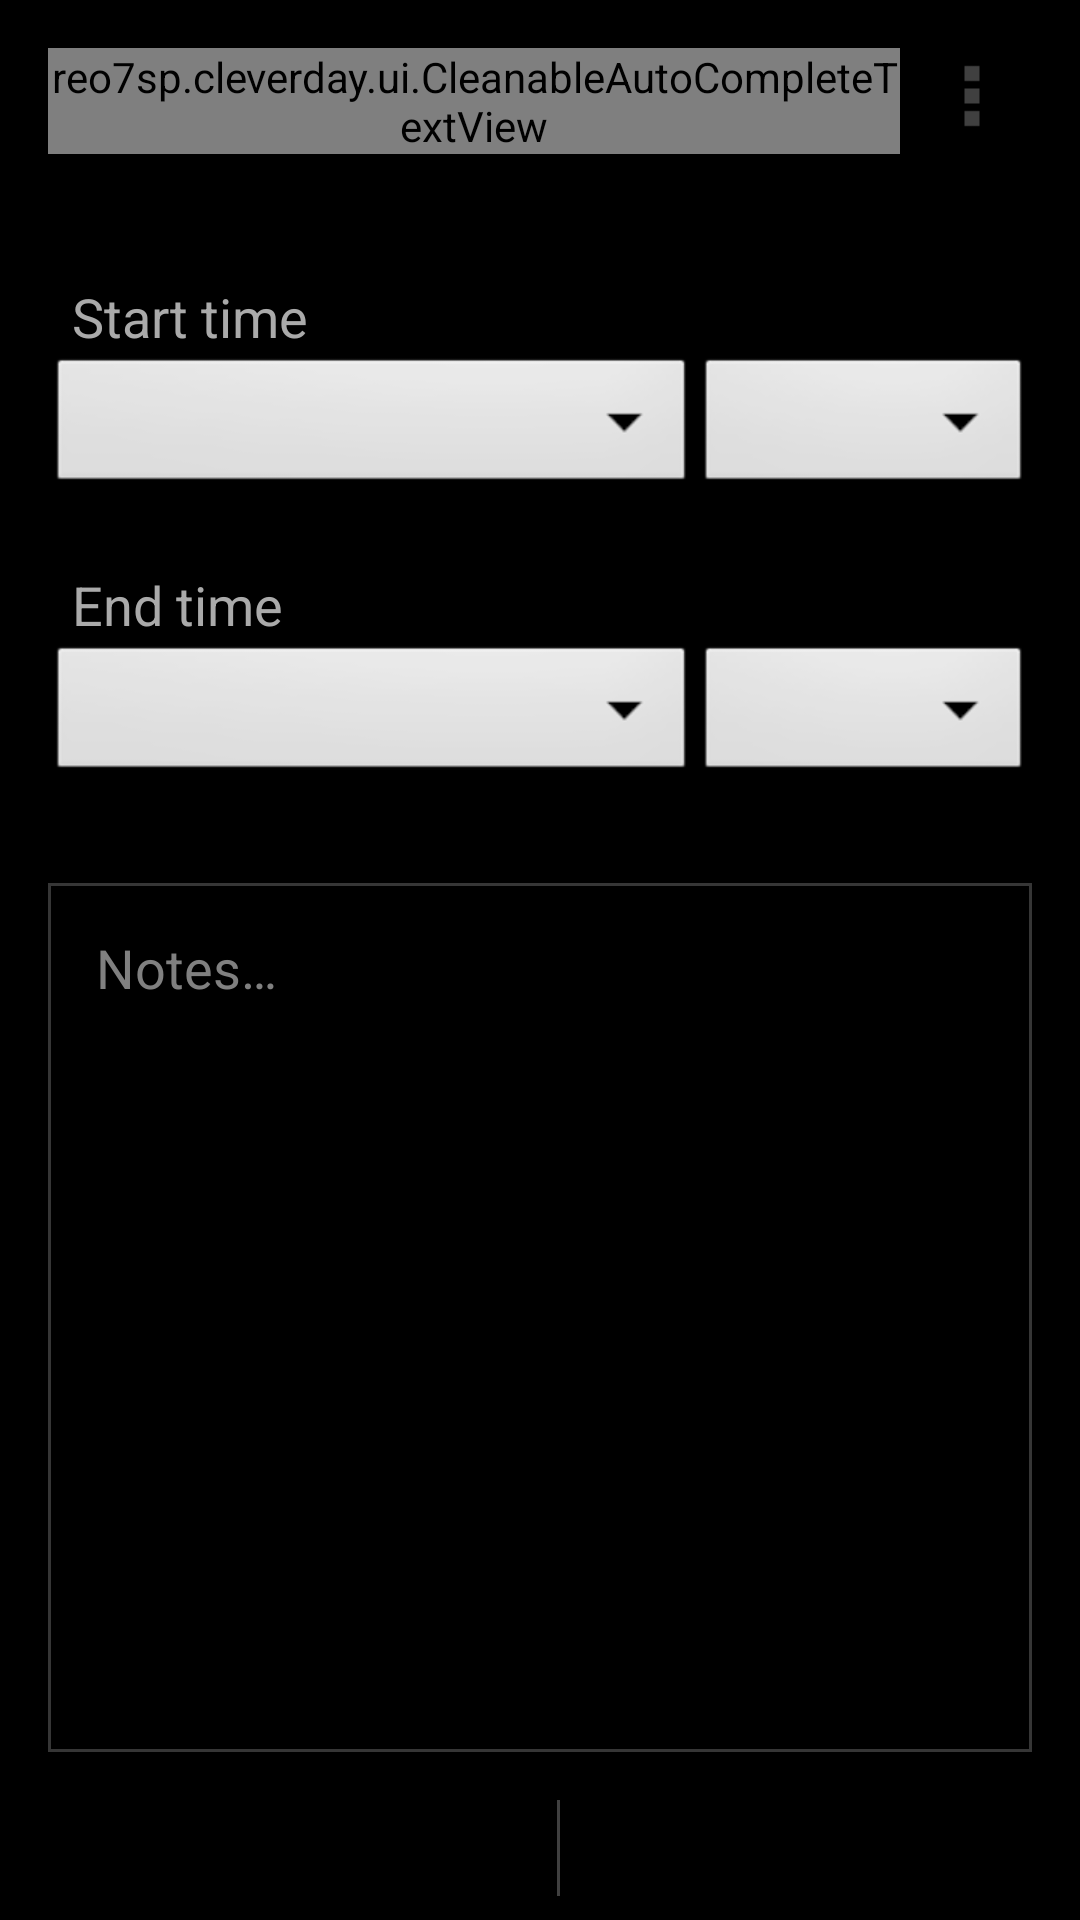

Icon bounding boxes for this 1080x1920 phone screenshot, format (x1, y1, x2, y2):
overflow: (964, 66, 980, 126)
